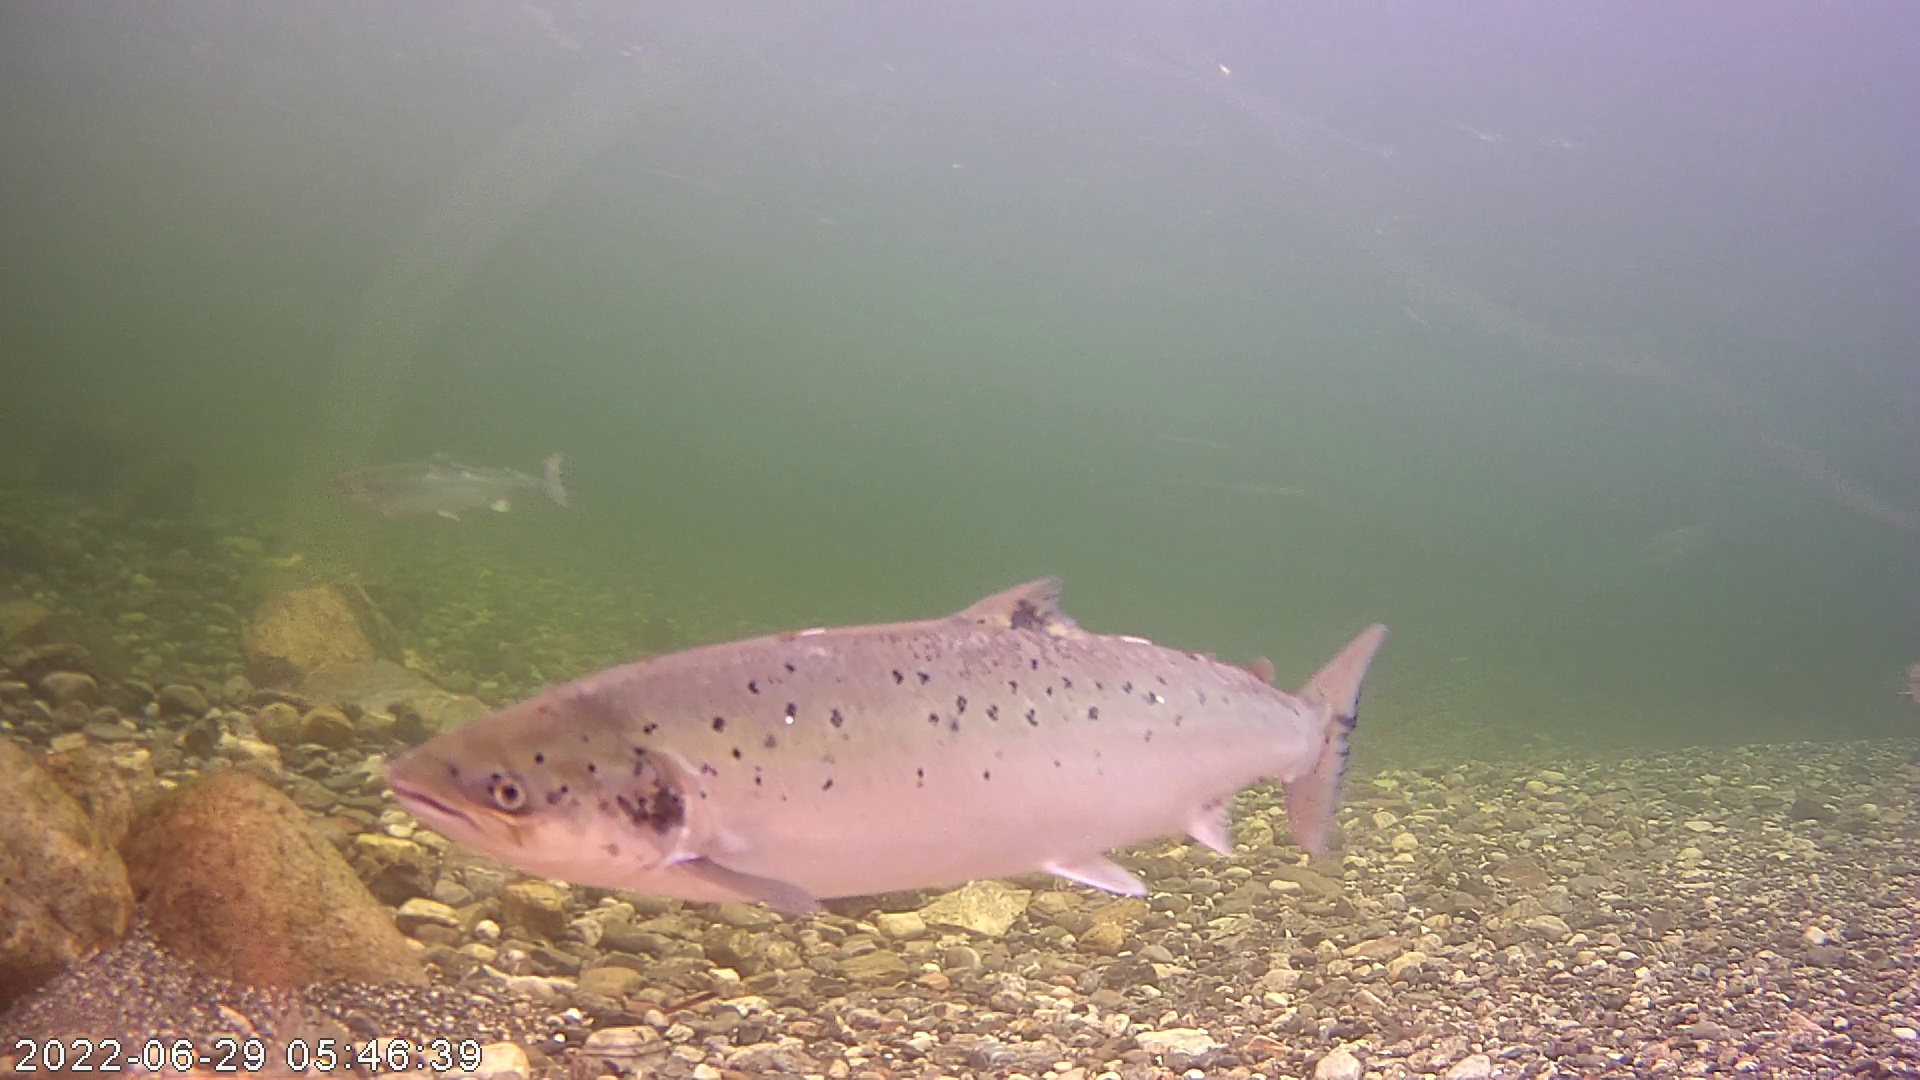salmon: (407, 484, 1378, 926), (313, 427, 593, 553)
